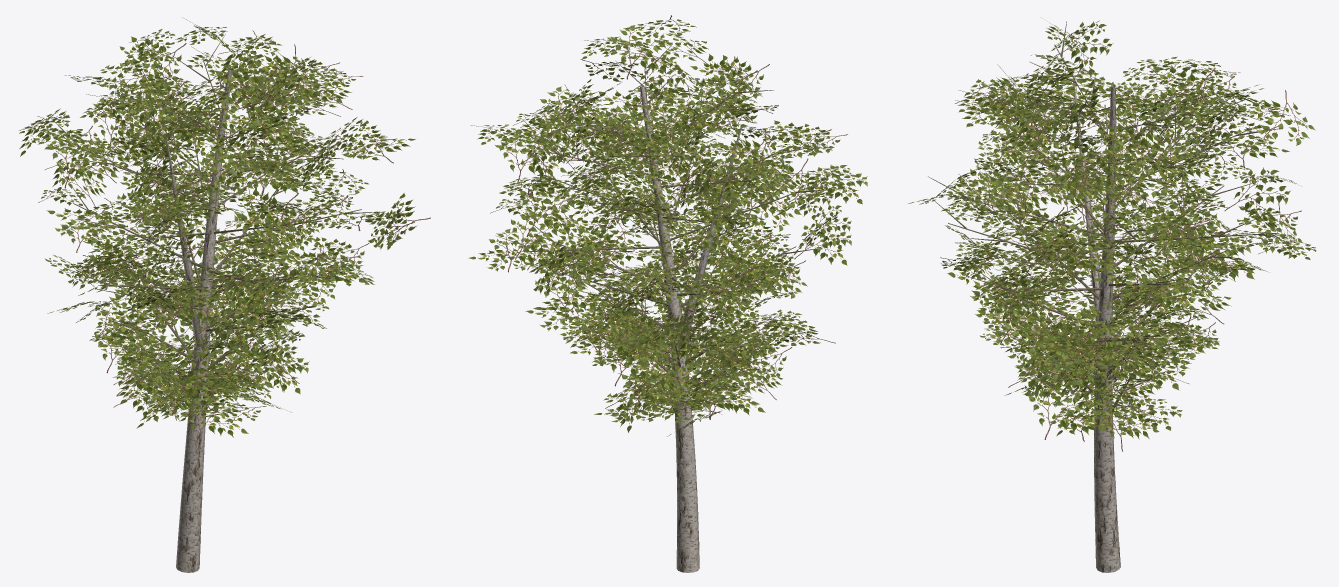
File: woodland_birch.gltf
3 views of the same model, side by side, from view 1: azimuth 30°, elevation 25°; view 2: azimuth 150°, elevation 25°; view 3: azimuth 270°, elevation 25° (orthographic). The views are drawn at different scales.
Parts seen in each view (by area): view 1: WoodlandBirch; view 2: WoodlandBirch; view 3: WoodlandBirch.
Part boxes in pixels (box(x1,y1,x2,y2)): WoodlandBirch: box(19, 18, 430, 572); WoodlandBirch: box(468, 15, 867, 572); WoodlandBirch: box(908, 20, 1316, 572).
Size of the model in its own units: 6.36 by 8.39 by 6.05.
Materials: 3 (2 with a texture image).
